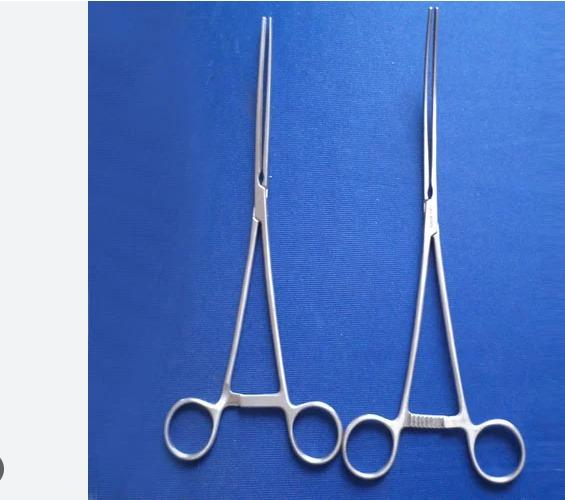Doyel Instestinal Forceps: (344, 5, 527, 486), (159, 11, 345, 466)
